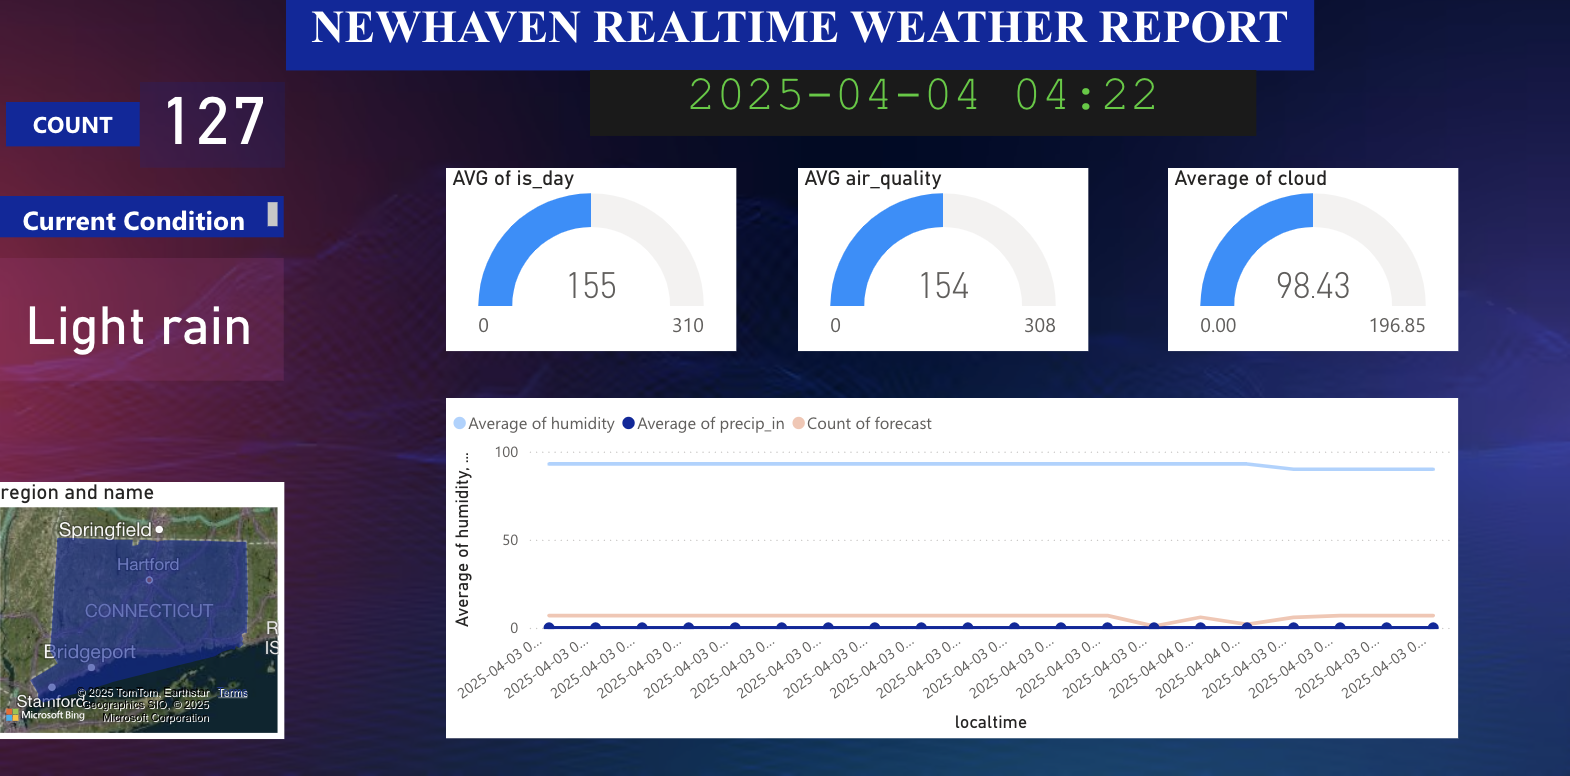

The page's visual inventory and layout, read from the dashboard file:
{"tool":"powerbi","page":{"name":"Page 1","canvas":[1280,720],"ordinal":0},"visuals":[{"type":"textbox","box":[0,0,1280,86.8],"z":0},{"type":"textbox","box":[236.4,85.3,833.8,62.2],"z":1000},{"type":"textbox","box":[0,250.6,235,33.6],"z":2000},{"type":"gauge","fields":{"Y":["CountNonNull(Kusto Query Result.is_day)"]},"box":[366.5,227.4,235.4,148.5],"z":3000},{"type":"gauge","fields":{"Y":["CountNonNull(Kusto Query Result.air_quality)"]},"box":[652.7,227.4,235.4,148.5],"z":4000},{"type":"gauge","fields":{"Y":["Avg(Kusto Query Result.cloud)"]},"box":[952.3,227.4,235.4,148.5],"z":5000},{"type":"lineChart","fields":{"Y":["Avg(Kusto Query Result.humidity)","Avg(Kusto Query Result.precip_in)","CountNonNull(Kusto Query Result.forecast)"],"Category":["Kusto Query Result.localtime"]},"box":[366.6,413.7,820.9,275.8],"z":6000},{"type":"card","fields":{"Values":["Max(Kusto Query Result.condition_text)"]},"box":[0,300.8,235.2,99.5],"z":7000},{"type":"filledMap","fields":{"Series":["Kusto Query Result.name"],"Category":["Kusto Query Result.region","Kusto Query Result.country"]},"box":[0,481.5,235.4,208.7],"z":8000},{"type":"card","fields":{"Values":["Max(Kusto Query Result.localtime)"]},"box":[483.6,147.6,540.4,53.3],"z":9000},{"type":"card","fields":{"Values":["CountNonNull(Kusto Query Result.name)"]},"box":[117.7,157.8,117.7,69.6],"z":10000},{"type":"textbox","box":[9.4,173.9,108.3,36.1],"z":11000}]}

Visuals, with their boxes on the page's 1280x720 design canvas (x1, y1, x2, y2). These are canvas units, not pixel positions in the 1570x776 screenshot, which may show the page scaled, cropped or inside an application window:
textbox: [0,0,1280,87]
textbox: [236,85,1070,148]
textbox: [0,251,235,284]
gauge - CountNonNull(Kusto Query Result.is_day): [366,227,602,376]
gauge - CountNonNull(Kusto Query Result.air_quality): [653,227,888,376]
gauge - Avg(Kusto Query Result.cloud): [952,227,1188,376]
lineChart - Avg(Kusto Query Result.humidity) x Avg(Kusto Query Result.precip_in): [367,414,1188,690]
card - Max(Kusto Query Result.condition_text): [0,301,235,400]
filledMap - Kusto Query Result.name x Kusto Query Result.region: [0,482,235,690]
card - Max(Kusto Query Result.localtime): [484,148,1024,201]
card - CountNonNull(Kusto Query Result.name): [118,158,235,227]
textbox: [9,174,118,210]
